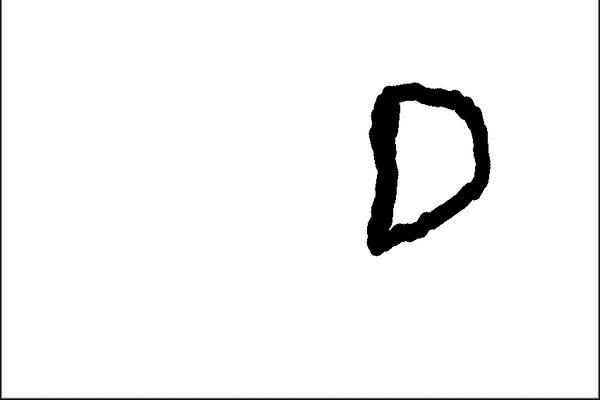D: (357, 78, 498, 262)
